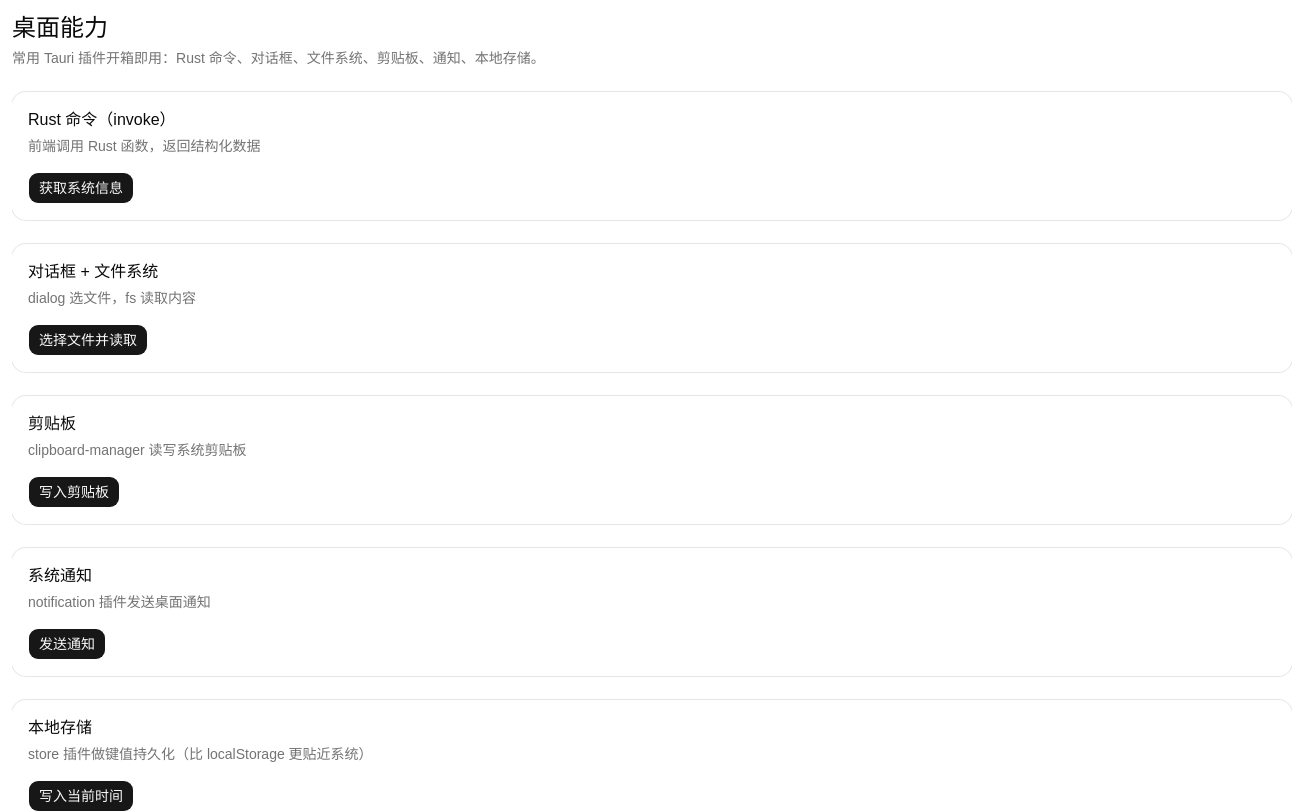
CapabilitiesPage › 写入剪贴板后回读并展示
The width and height of the screenshot is (1292, 812).
Click the button "写入剪贴板": (74, 492) [28,476,120,508]
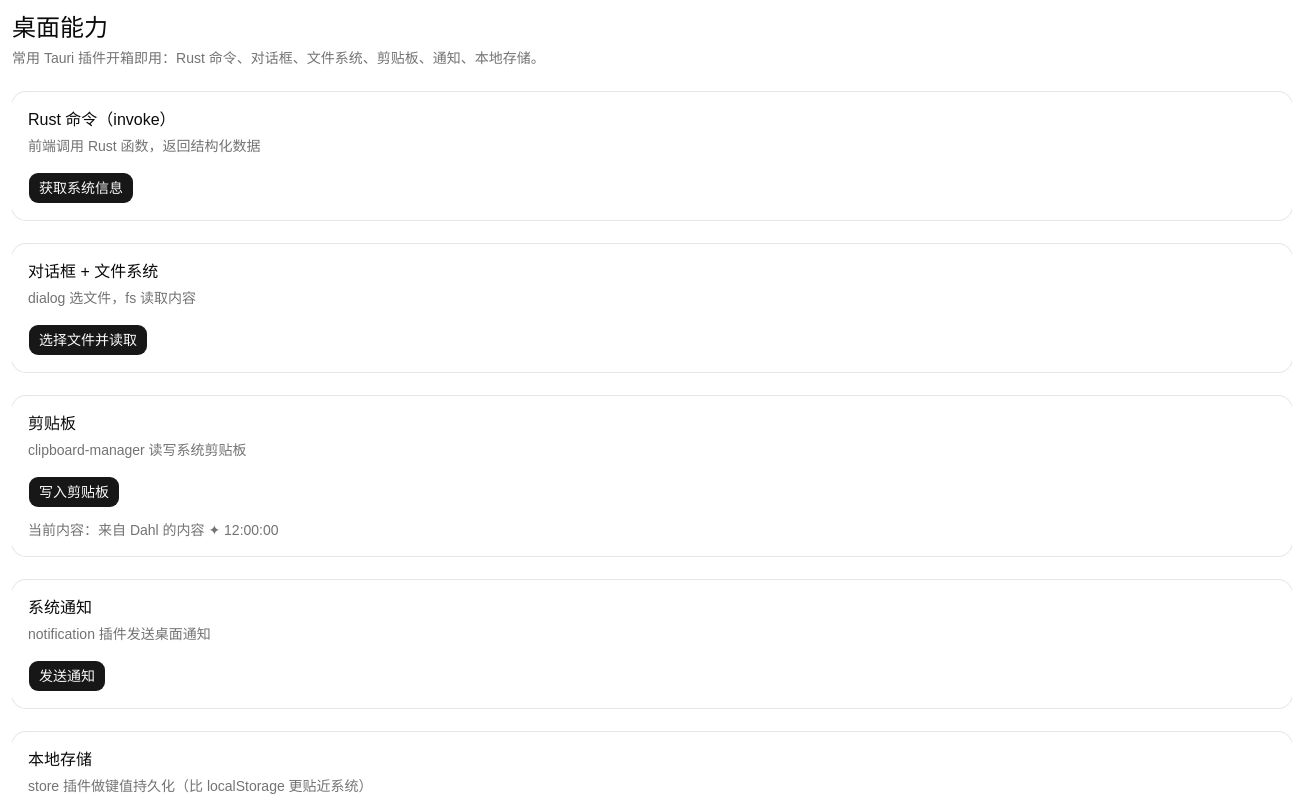
Expected: the text "当前内容：来自 Dahl 的内容 ✦ 12:00:00" is shown, [28,522,279,538]
